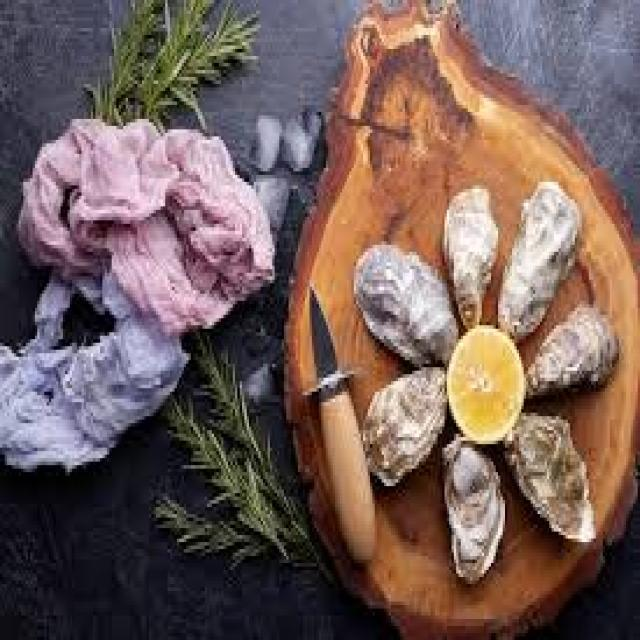Oyster- Indeterminate: (489, 173, 591, 348), (498, 403, 607, 561), (340, 228, 462, 369), (350, 355, 457, 497), (434, 423, 514, 596), (516, 298, 624, 402), (435, 174, 502, 334)
